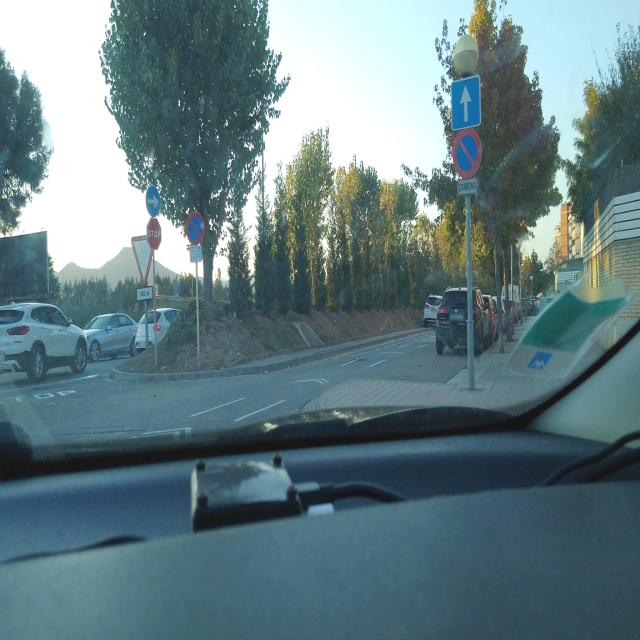car: (0, 299, 88, 383), (435, 286, 490, 356), (82, 311, 138, 361), (134, 306, 180, 353), (482, 294, 499, 344), (423, 293, 443, 327), (510, 300, 524, 324), (527, 296, 538, 314)
